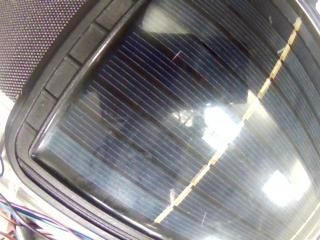crack: (172, 50, 182, 61), (170, 188, 176, 202), (277, 48, 285, 55), (202, 212, 206, 226)
solarboard: (34, 0, 320, 240)
